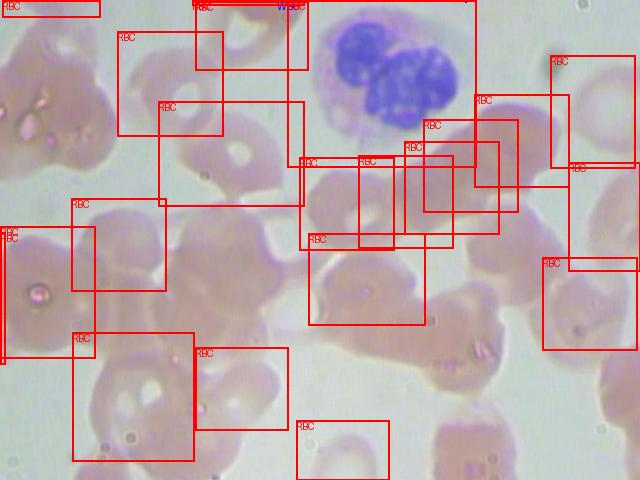RBC: (287, 0, 476, 167), (72, 332, 194, 461), (158, 101, 304, 206), (0, 226, 95, 358), (117, 31, 223, 136), (308, 233, 425, 325), (550, 55, 635, 168), (71, 198, 166, 291), (299, 157, 394, 250), (358, 155, 453, 248), (404, 141, 499, 234), (423, 119, 518, 212), (474, 94, 569, 187), (542, 257, 637, 350), (568, 162, 640, 271), (195, 1, 308, 70), (195, 347, 288, 430), (296, 420, 389, 480), (2, 0, 100, 17), (0, 232, 5, 364), (192, 0, 304, 5)
